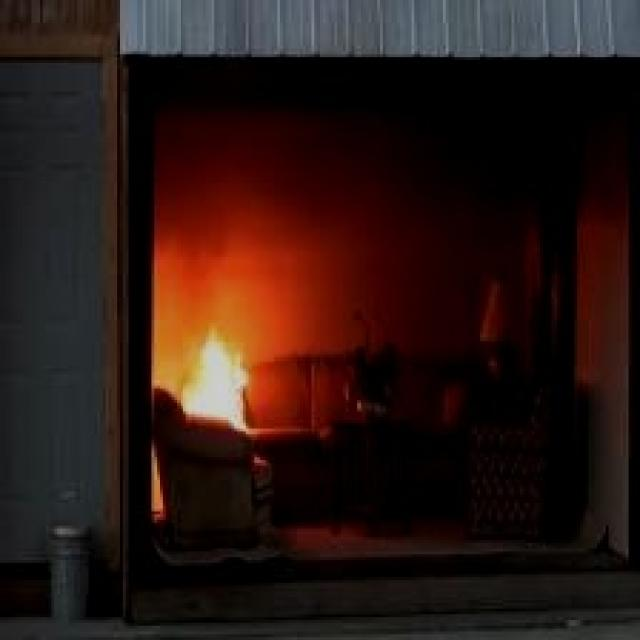fire: (150, 287, 279, 462)
